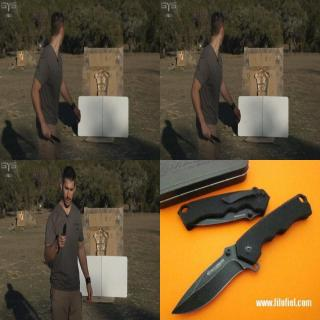knife: (169, 241, 247, 315), (200, 129, 222, 145), (41, 129, 61, 145), (59, 221, 67, 247)
